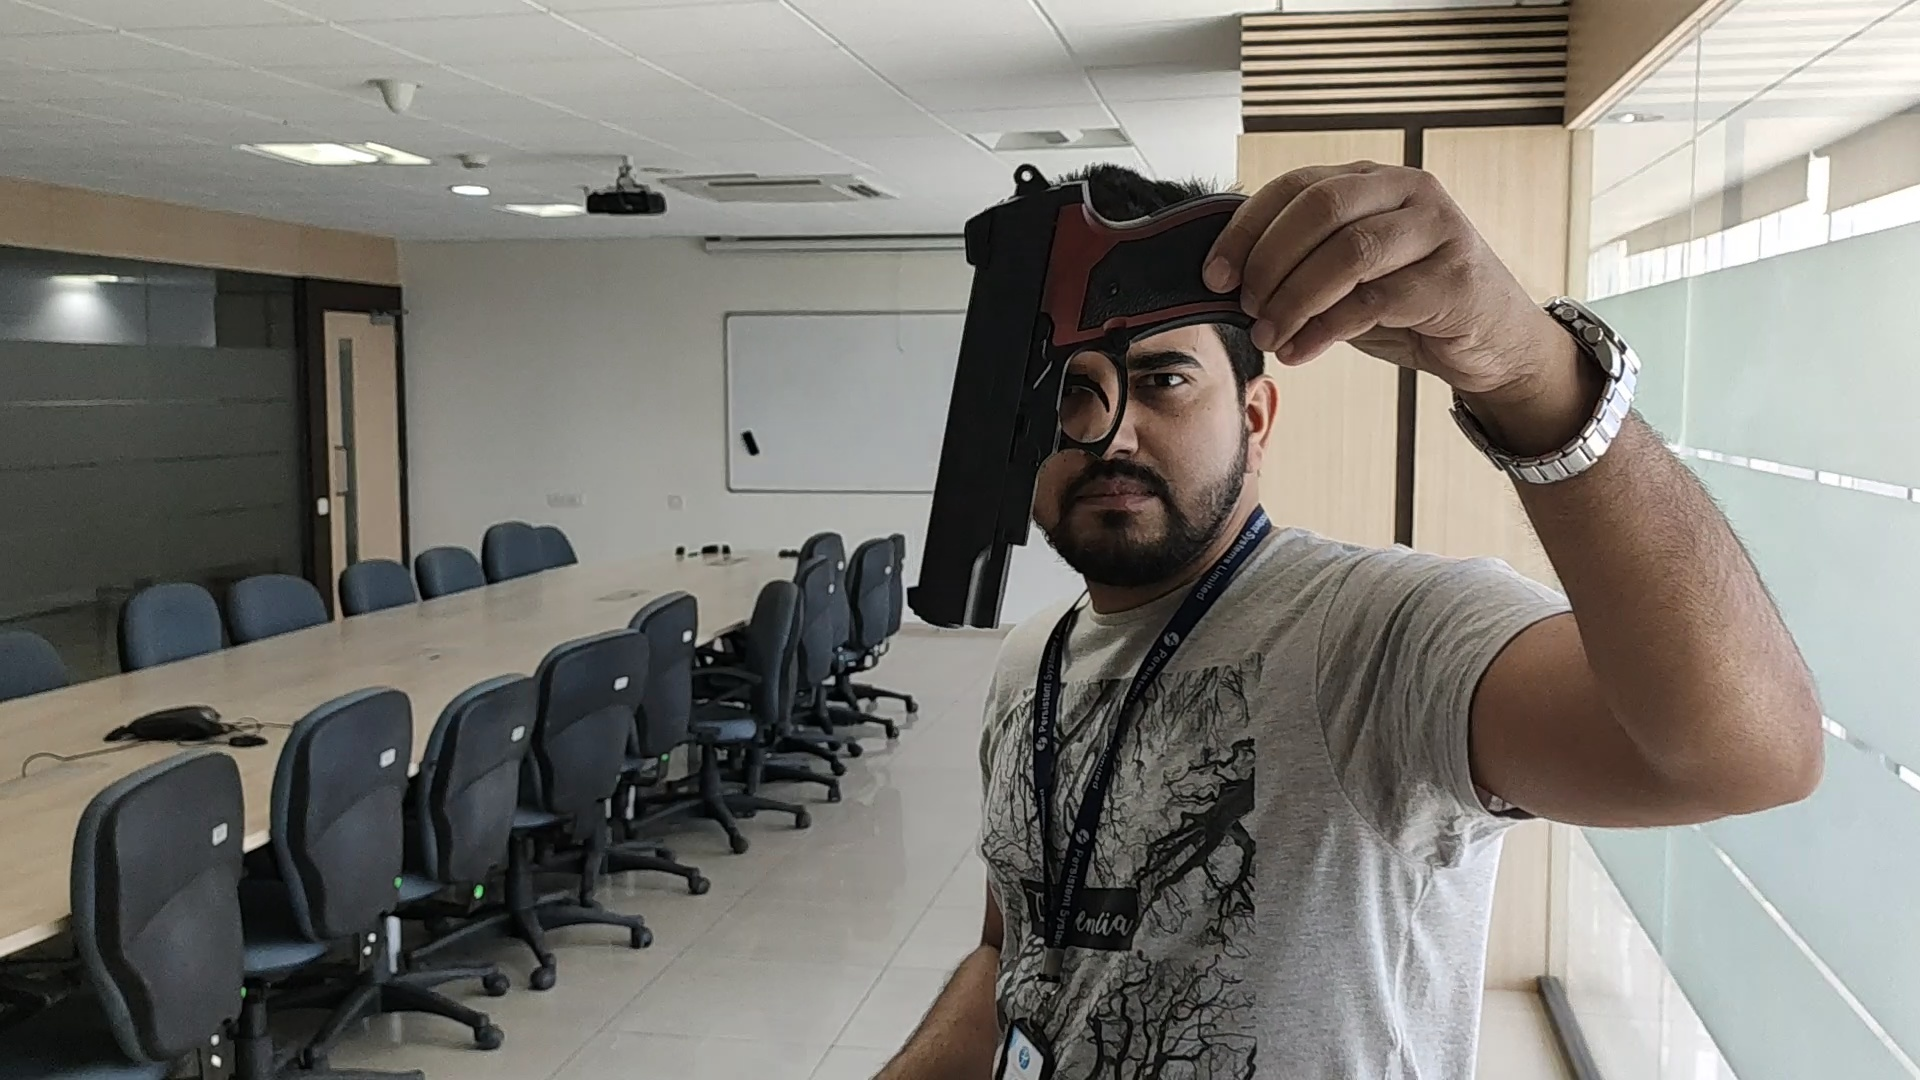gun: (905, 161, 1203, 628)
